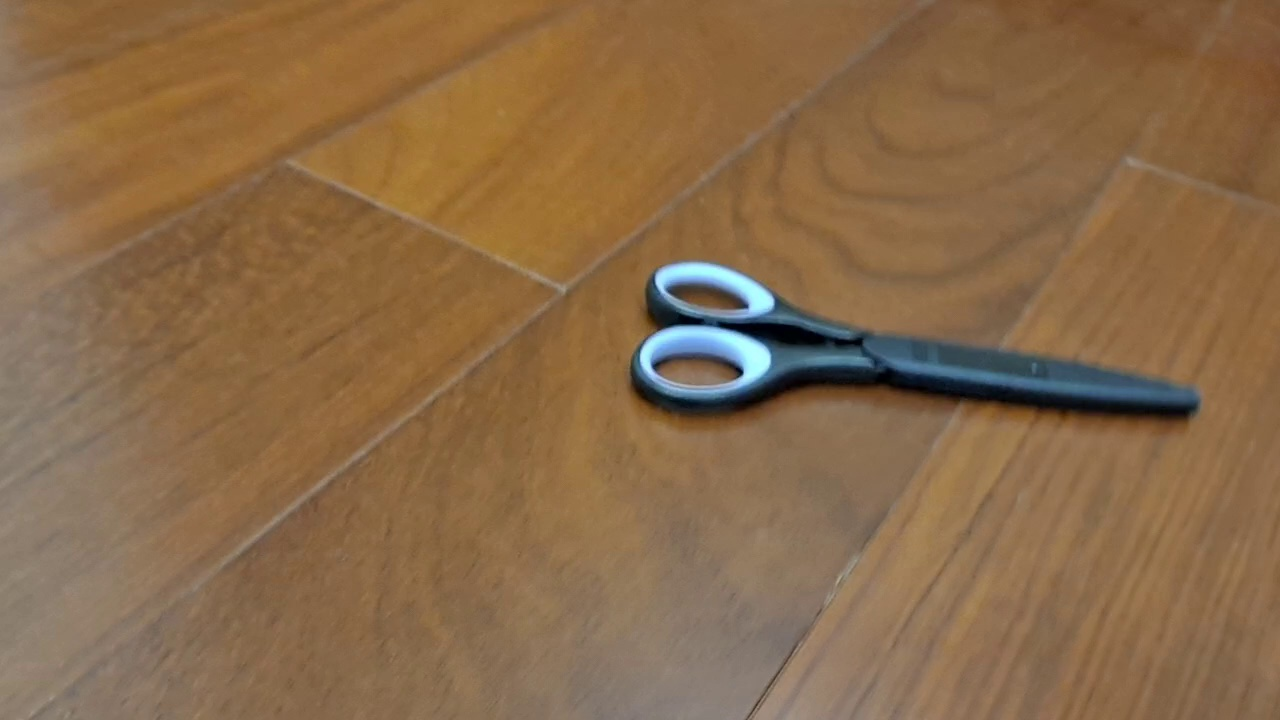scissors: (629, 258, 1201, 422)
